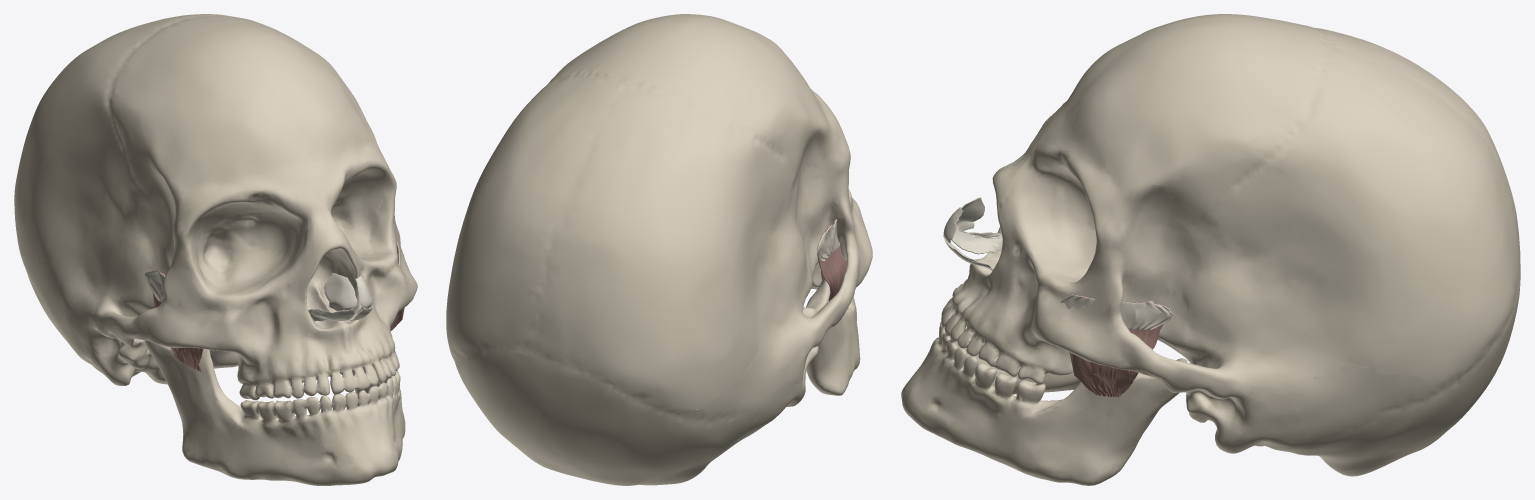
The model's file is swept-bone.glb.
The picture shows the model from 3 angles, left to right: view 1: azimuth 30°, elevation 25°; view 2: azimuth 150°, elevation 25°; view 3: azimuth 270°, elevation 25°; orthographic projection. The views are drawn at different scales.
Parts seen in each view (by area): view 1: swept-illustrative-bone, Upper lateral cartilage -1, Masseter -1, Alar cartilage -1; view 2: swept-illustrative-bone, Masseter -1, Zygomatic aponeurosis -1; view 3: swept-illustrative-bone, Masseter 1, Zygomatic aponeurosis 1, Alar cartilage -1.
Boxes of the visible parts, bbox=[...] form: swept-illustrative-bone: bbox=[14, 14, 417, 485]; Upper lateral cartilage -1: bbox=[324, 273, 357, 310]; Masseter -1: bbox=[152, 270, 203, 371]; Alar cartilage -1: bbox=[308, 308, 354, 321]; swept-illustrative-bone: bbox=[446, 14, 872, 485]; Masseter -1: bbox=[817, 219, 847, 300]; Zygomatic aponeurosis -1: bbox=[817, 219, 840, 261]; swept-illustrative-bone: bbox=[901, 14, 1520, 485]; Masseter 1: bbox=[1069, 294, 1164, 397]; Zygomatic aponeurosis 1: bbox=[1060, 294, 1173, 329]; Alar cartilage -1: bbox=[951, 230, 1002, 254].
Bounding box in the file's own units: 0.1366 × 0.1786 × 0.2397.
